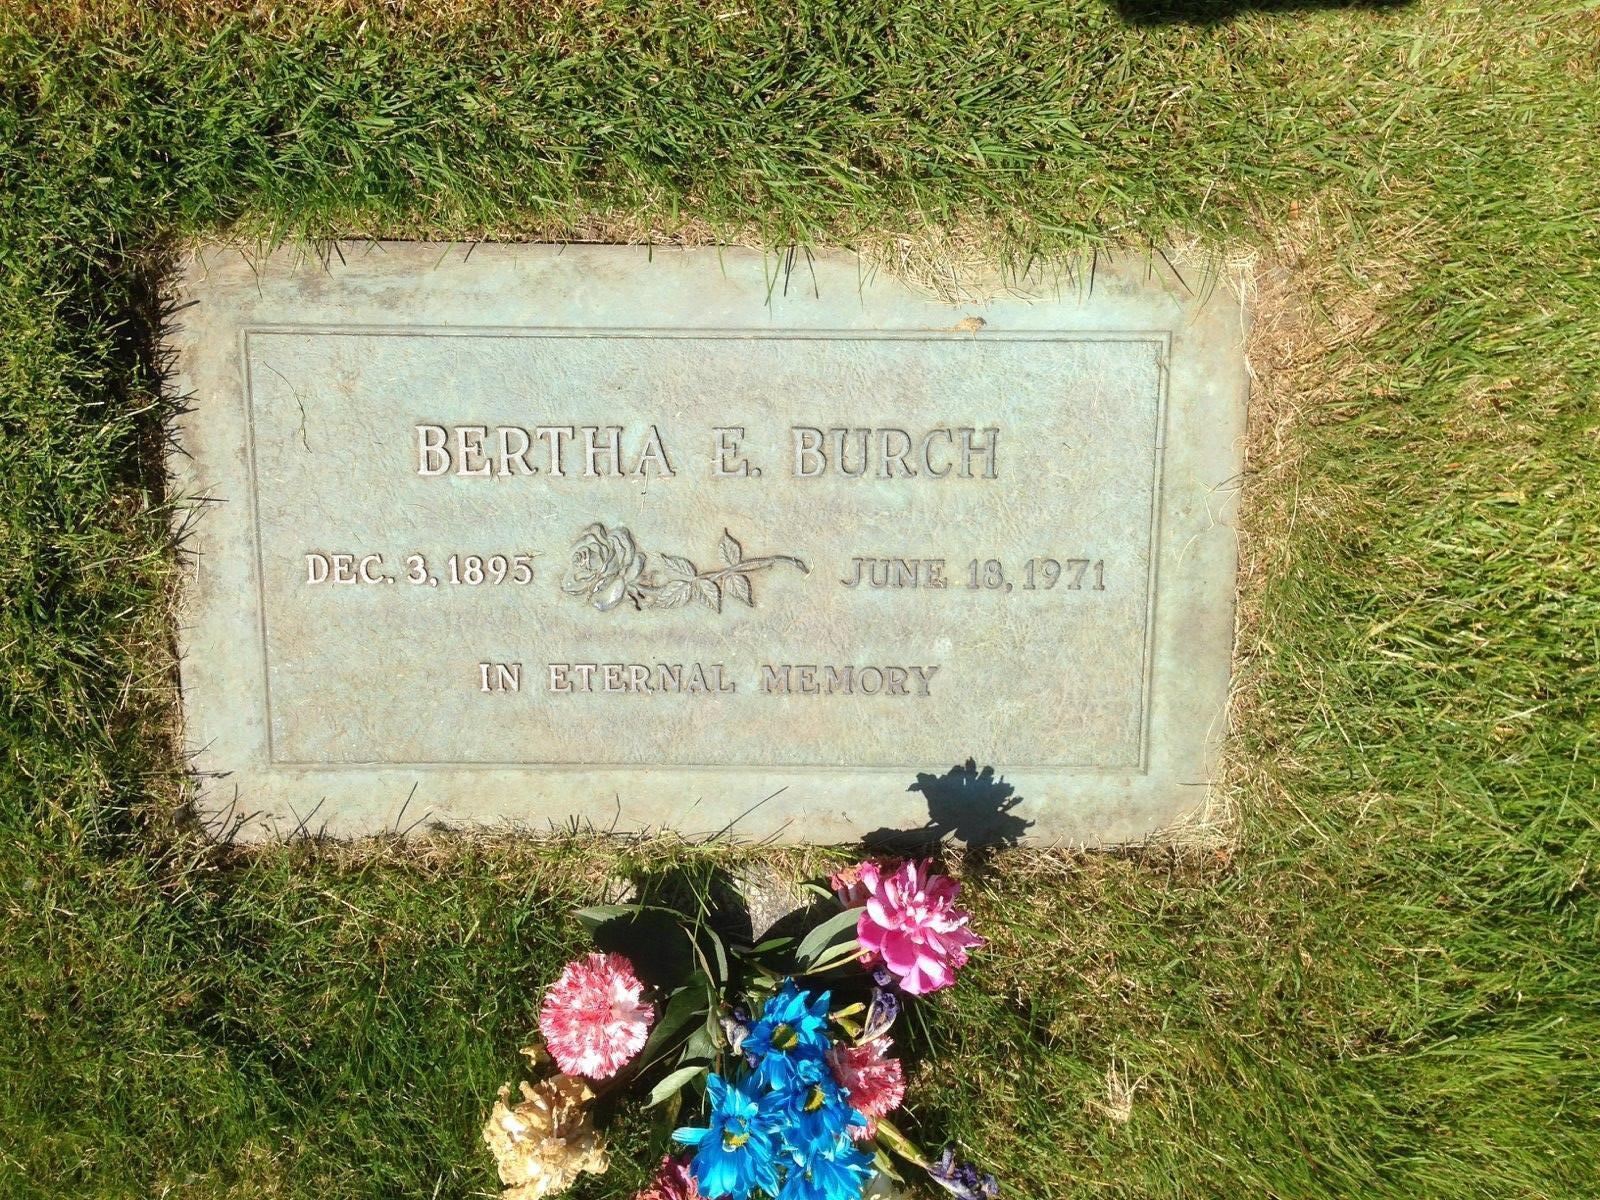flat: (157, 213, 1230, 868)
